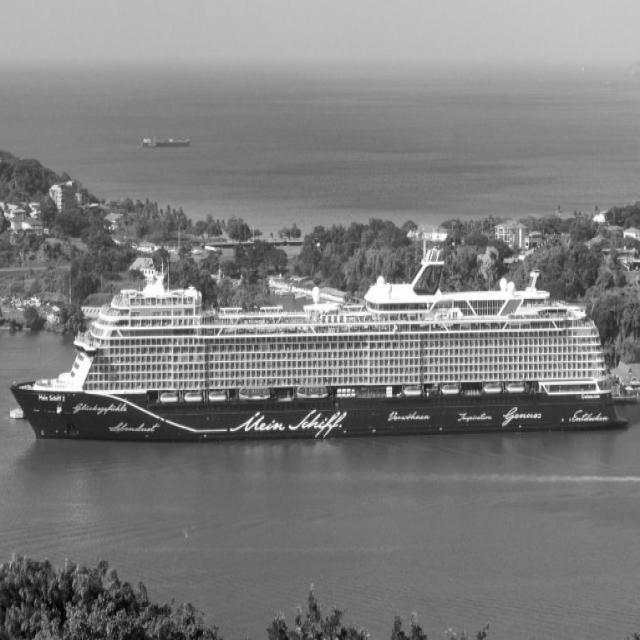cruises: (8, 246, 632, 451)
